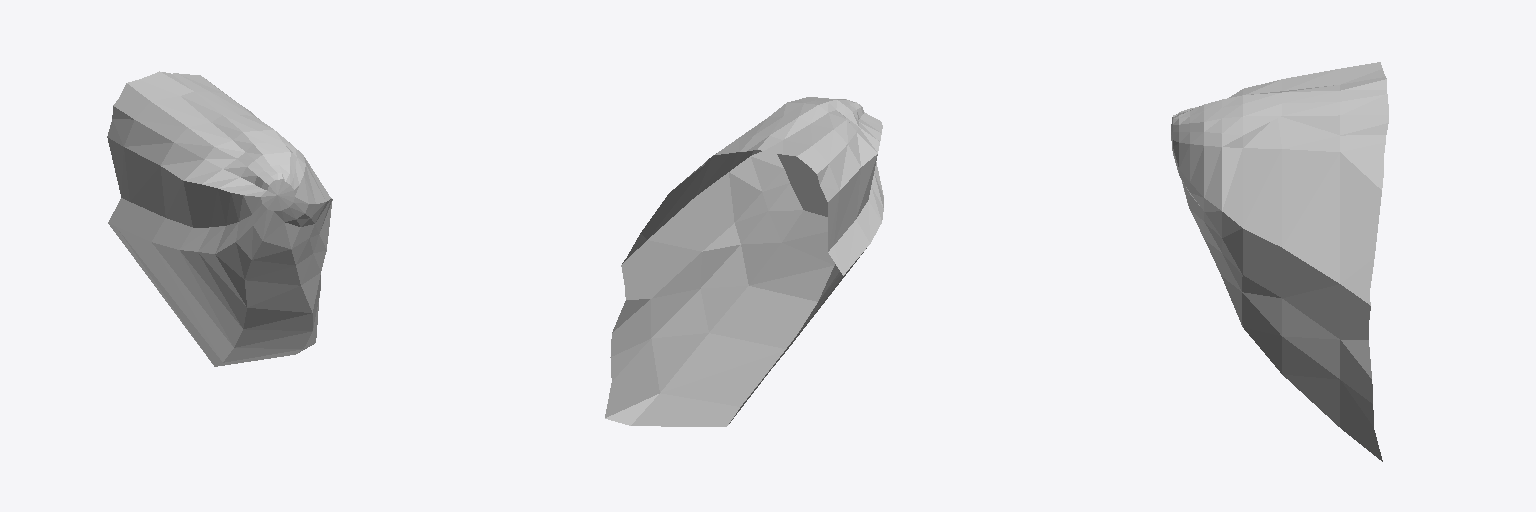
Rendered from pedra.obj.
3 renders of one model, left to right at view 1: azimuth 30°, elevation 25°; view 2: azimuth 150°, elevation 25°; view 3: azimuth 270°, elevation 25°, orthographic.
Visible parts, largest first — view 1: obj192, obj193, obj290, obj197, obj132, obj289, obj278, obj66, obj272, obj86, obj158, obj185 (+12 smaller); view 2: obj195, obj194, obj283, obj219, obj165, obj201, obj175, obj288, obj285, obj132, obj179, obj86 (+21 smaller); view 3: obj252, obj222, obj181, obj162, obj175, obj163, obj179, obj283, obj201, obj249, obj173, obj204 (+17 smaller).
Boxes of the visible parts, x1=… form: obj192: x1=117, y1=227, x2=221, y2=360; obj193: x1=153, y1=245, x2=233, y2=361; obj290: x1=152, y1=242, x2=221, y2=328; obj197: x1=124, y1=147, x2=159, y2=200; obj132: x1=248, y1=286, x2=311, y2=312; obj289: x1=180, y1=251, x2=242, y2=336; obj278: x1=119, y1=231, x2=222, y2=366; obj66: x1=245, y1=280, x2=298, y2=307; obj272: x1=130, y1=166, x2=161, y2=212; obj86: x1=243, y1=308, x2=310, y2=328; obj158: x1=180, y1=250, x2=241, y2=326; obj185: x1=124, y1=120, x2=173, y2=146; obj195: x1=661, y1=333, x2=785, y2=392; obj194: x1=661, y1=351, x2=783, y2=406; obj283: x1=605, y1=339, x2=659, y2=417; obj219: x1=711, y1=302, x2=817, y2=348; obj165: x1=709, y1=286, x2=816, y2=332; obj201: x1=651, y1=333, x2=708, y2=392; obj175: x1=647, y1=240, x2=700, y2=298; obj288: x1=777, y1=154, x2=827, y2=216; obj285: x1=631, y1=393, x2=737, y2=425; obj132: x1=749, y1=243, x2=834, y2=285; obj179: x1=648, y1=197, x2=701, y2=251; obj86: x1=750, y1=266, x2=833, y2=301; obj252: x1=1340, y1=152, x2=1381, y2=283; obj222: x1=1282, y1=154, x2=1339, y2=283; obj181: x1=1282, y1=149, x2=1339, y2=246; obj162: x1=1243, y1=150, x2=1281, y2=246; obj175: x1=1282, y1=284, x2=1339, y2=338; obj163: x1=1243, y1=148, x2=1281, y2=225; obj179: x1=1282, y1=248, x2=1338, y2=297; obj283: x1=1340, y1=380, x2=1382, y2=461; obj201: x1=1283, y1=375, x2=1339, y2=426; obj249: x1=1340, y1=284, x2=1370, y2=339; obj173: x1=1282, y1=336, x2=1339, y2=378; obj204: x1=1282, y1=337, x2=1339, y2=379.
Bounding box in the file's own units: 4871 × 6499 × 4133.